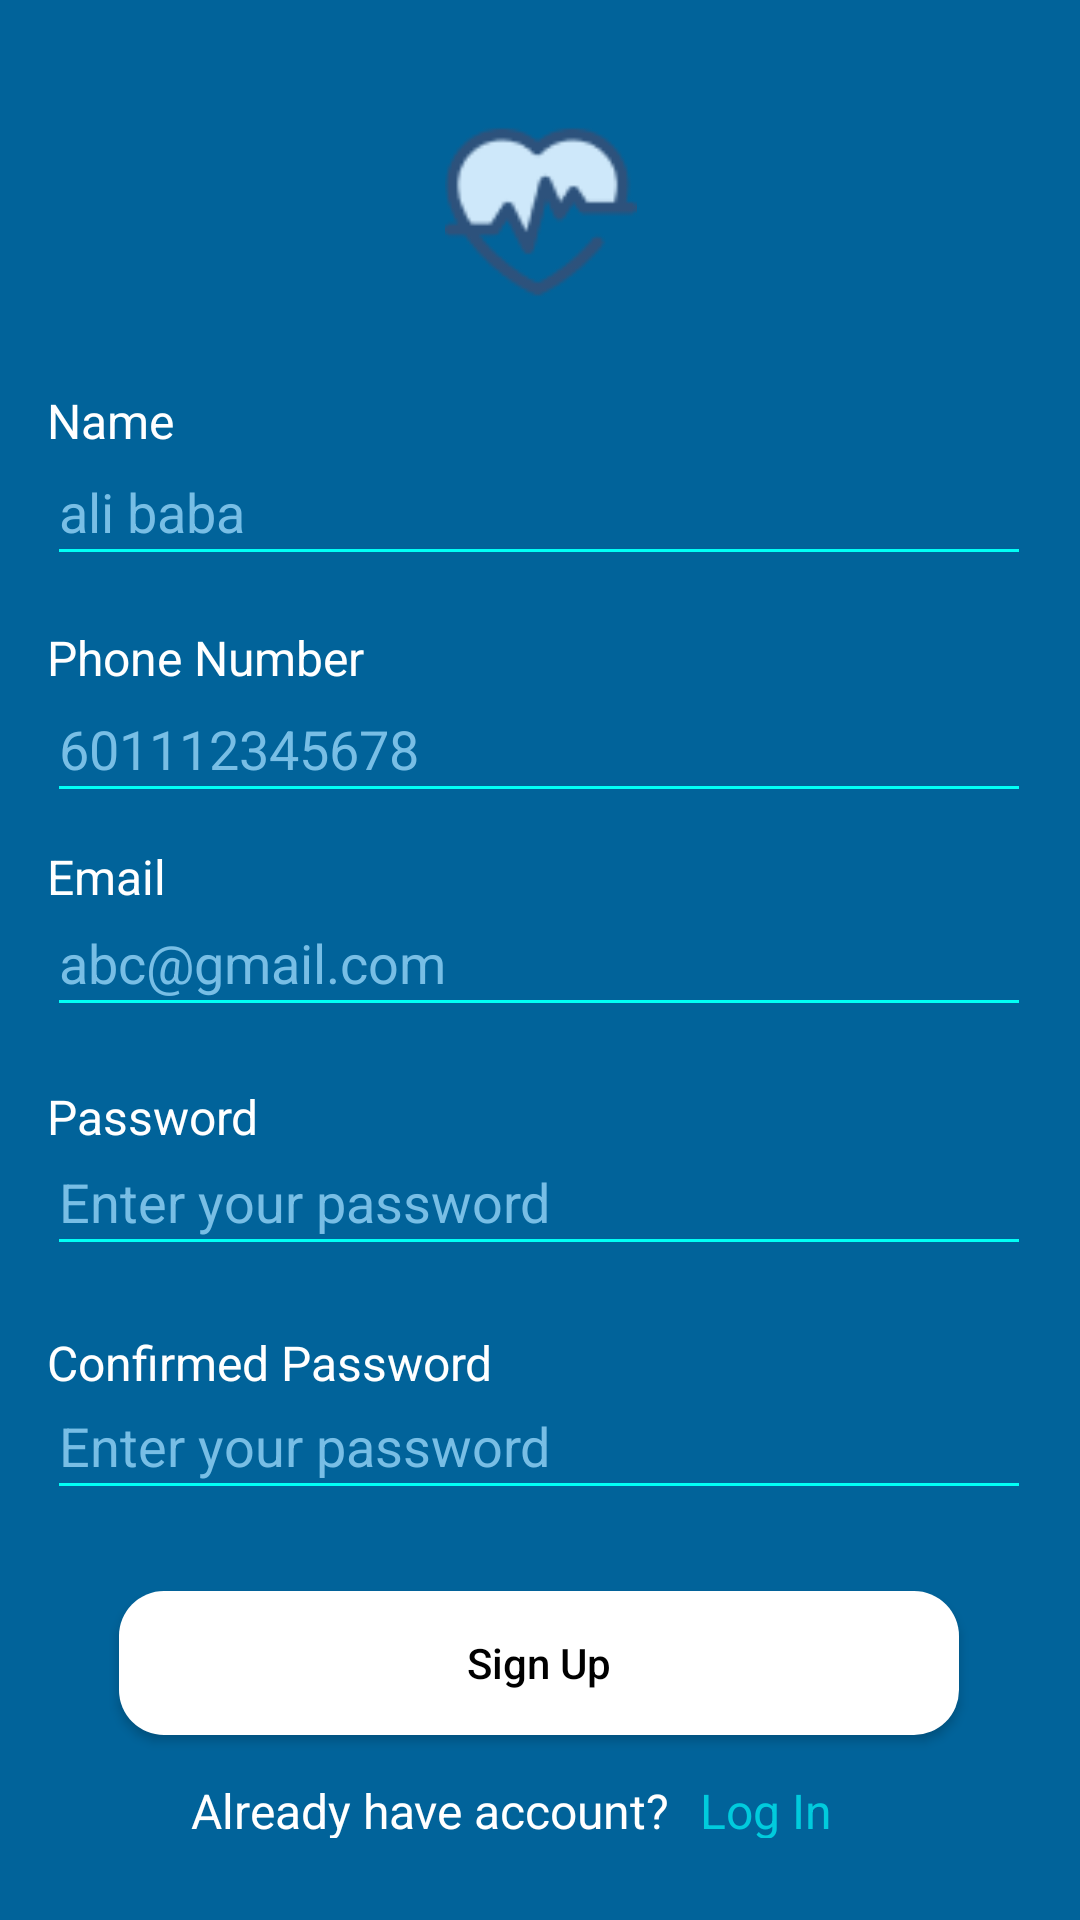

Where to tap for icons on this 1080w x 1920h app screen, as (x,y):
startingactivity pulse: (541,212)
